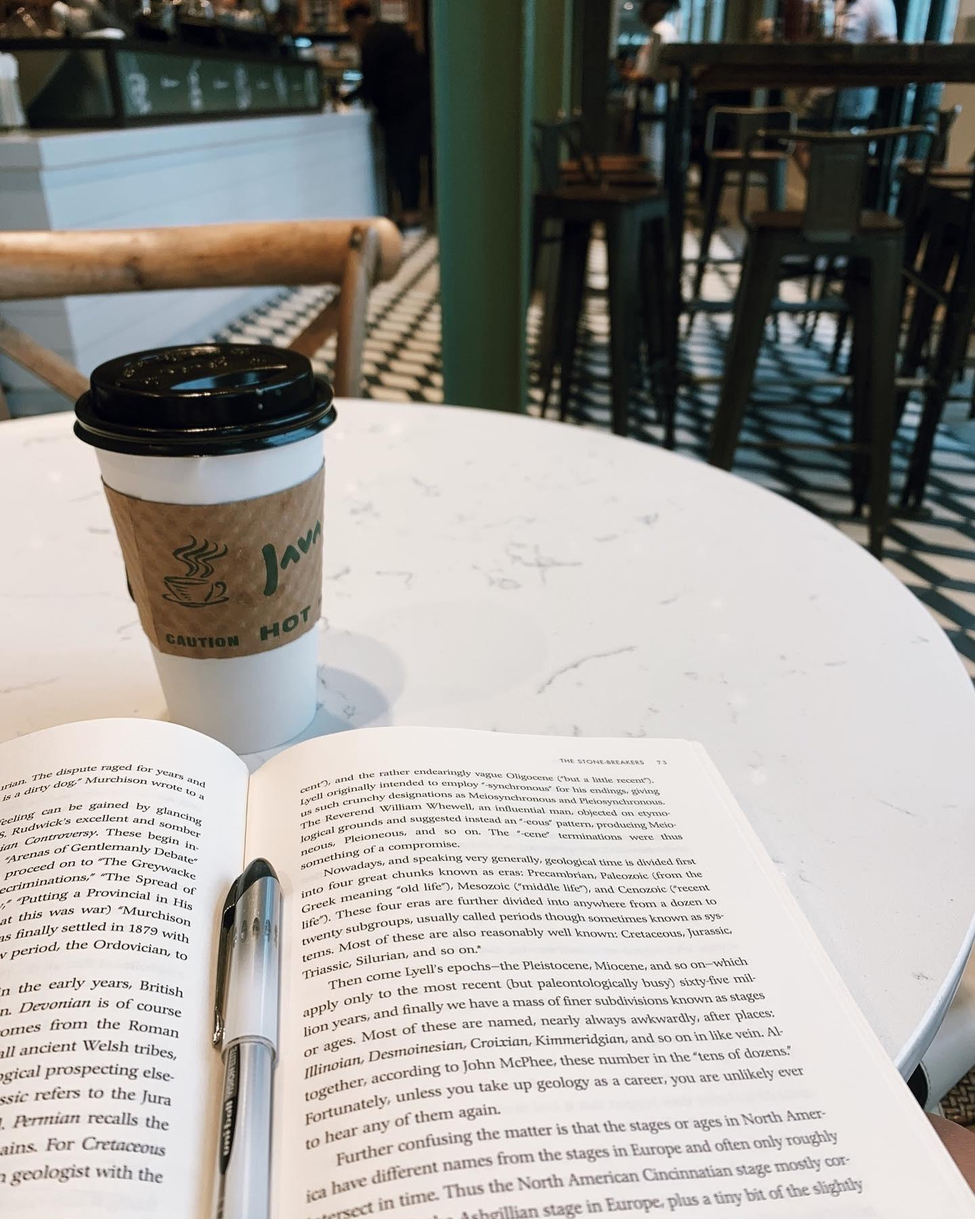cup-disposable: (68, 337, 339, 750)
